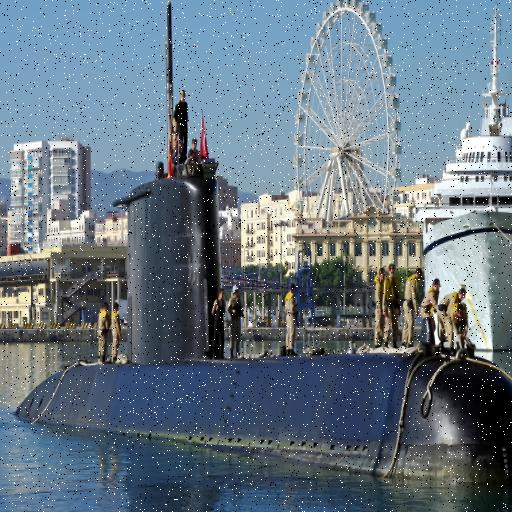submarine: (1, 1, 512, 488)
